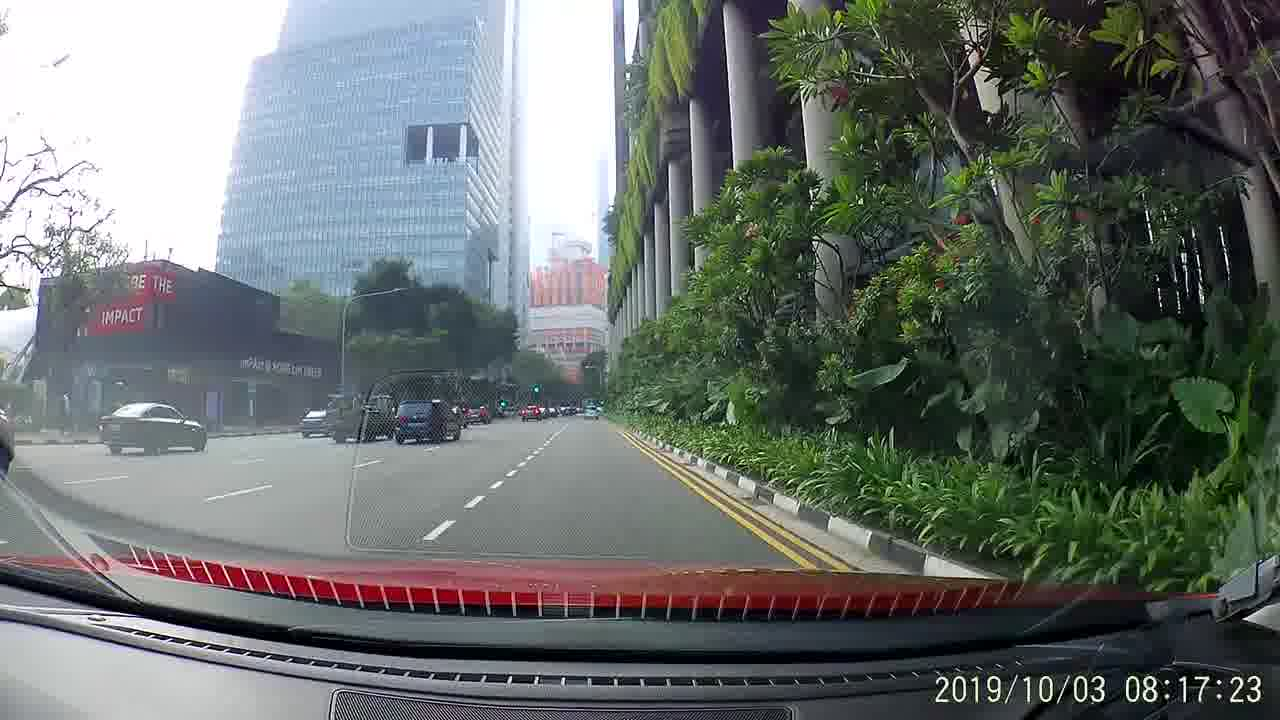car: (90, 399, 208, 464), (392, 399, 460, 443), (298, 406, 336, 442), (466, 402, 494, 424)
